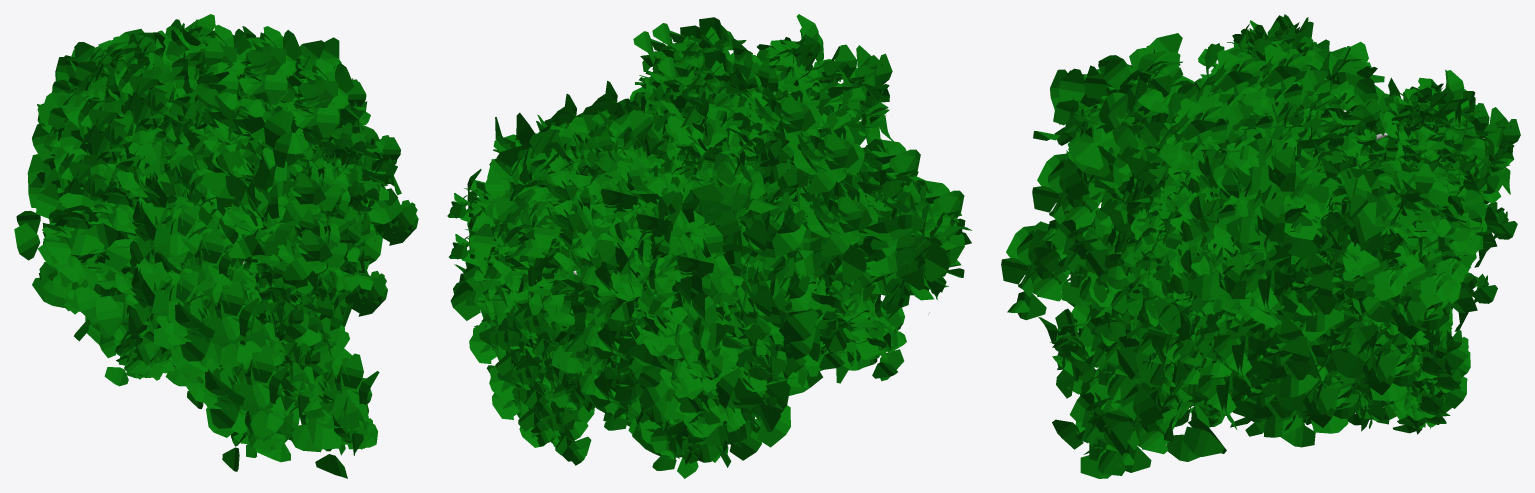
File: Tree.fbx
The picture shows the model from 3 angles, left to right: view 1: azimuth 30°, elevation 25°; view 2: azimuth 150°, elevation 25°; view 3: azimuth 270°, elevation 25°; orthographic projection. The views are drawn at different scales.
Visible parts, largest first — view 1: Cube.001|Plane|Dupli|31, Cube.001|Plane|Dupli|43, Cube.001|Plane|Dupli|20, Cube.001|Plane|Dupli|17, Cube.001|Plane|Dupli|46, Cube.001|Plane|Dupli|29, Cube.001|Plane|Dupli|14, Cube.001|Plane|Dupli|49, Cube.001|Plane|Dupli|38, Cube.001|Plane|Dupli|44, Cube.001|Plane|Dupli|13, Cube.001|Plane|Dupli|37 (+12 smaller); view 2: Cube.001|Plane|Dupli|46, Cube.001|Plane|Dupli|20, Cube.001|Plane|Dupli|35, Cube.001|Plane|Dupli|29, Cube.001|Plane|Dupli|23, Cube.001|Plane|Dupli|26, Cube.001|Plane|Dupli|36, Cube.001|Plane|Dupli|17, Cube.001|Plane|Dupli|52, Cube.001|Plane|Dupli|22, Cube.001|Plane|Dupli|16, Cube.001|Plane|Dupli|30 (+15 smaller); view 3: Cube.001|Plane|Dupli|31, Cube.001|Plane|Dupli|44, Cube.001|Plane|Dupli|29, Cube.001|Plane|Dupli|17, Cube.001|Plane|Dupli|13, Cube.001|Plane|Dupli|40, Cube.001|Plane|Dupli|22, Cube.001|Plane|Dupli|24, Cube.001|Plane|Dupli|23, Cube.001|Plane|Dupli|49, Cube.001|Plane|Dupli|36, Cube.001|Plane|Dupli|34 (+18 smaller).
Part boxes in pixels (bbox=[...]): Cube.001|Plane|Dupli|31: bbox=[136, 159, 379, 478]; Cube.001|Plane|Dupli|43: bbox=[115, 170, 310, 471]; Cube.001|Plane|Dupli|20: bbox=[54, 38, 240, 214]; Cube.001|Plane|Dupli|17: bbox=[188, 87, 308, 269]; Cube.001|Plane|Dupli|46: bbox=[14, 74, 148, 338]; Cube.001|Plane|Dupli|29: bbox=[138, 24, 397, 211]; Cube.001|Plane|Dupli|14: bbox=[115, 82, 350, 357]; Cube.001|Plane|Dupli|49: bbox=[239, 95, 347, 290]; Cube.001|Plane|Dupli|38: bbox=[236, 247, 326, 395]; Cube.001|Plane|Dupli|44: bbox=[87, 37, 418, 379]; Cube.001|Plane|Dupli|13: bbox=[237, 62, 402, 358]; Cube.001|Plane|Dupli|37: bbox=[99, 323, 204, 386]; Cube.001|Plane|Dupli|46: bbox=[656, 140, 971, 319]; Cube.001|Plane|Dupli|20: bbox=[700, 38, 878, 274]; Cube.001|Plane|Dupli|35: bbox=[712, 104, 811, 367]; Cube.001|Plane|Dupli|29: bbox=[629, 17, 746, 164]; Cube.001|Plane|Dupli|23: bbox=[510, 112, 822, 447]; Cube.001|Plane|Dupli|26: bbox=[567, 128, 746, 299]; Cube.001|Plane|Dupli|36: bbox=[469, 206, 722, 478]; Cube.001|Plane|Dupli|17: bbox=[714, 14, 893, 295]; Cube.001|Plane|Dupli|52: bbox=[628, 233, 741, 412]; Cube.001|Plane|Dupli|22: bbox=[469, 146, 751, 318]; Cube.001|Plane|Dupli|16: bbox=[579, 167, 674, 420]; Cube.001|Plane|Dupli|30: bbox=[595, 155, 704, 379]; Cube.001|Plane|Dupli|31: bbox=[1001, 114, 1226, 478]; Cube.001|Plane|Dupli|44: bbox=[1198, 156, 1387, 437]; Cube.001|Plane|Dupli|29: bbox=[1158, 37, 1377, 328]; Cube.001|Plane|Dupli|17: bbox=[1033, 33, 1245, 194]; Cube.001|Plane|Dupli|13: bbox=[1135, 102, 1329, 388]; Cube.001|Plane|Dupli|40: bbox=[1271, 228, 1482, 433]; Cube.001|Plane|Dupli|22: bbox=[1327, 110, 1505, 260]; Cube.001|Plane|Dupli|24: bbox=[1198, 216, 1470, 326]; Cube.001|Plane|Dupli|23: bbox=[1279, 119, 1386, 412]; Cube.001|Plane|Dupli|49: bbox=[1095, 97, 1275, 279]; Cube.001|Plane|Dupli|36: bbox=[1372, 223, 1468, 428]; Cube.001|Plane|Dupli|34: bbox=[1168, 142, 1244, 314].
Size of the model in its own units: 8.89 by 8.38 by 8.05.
